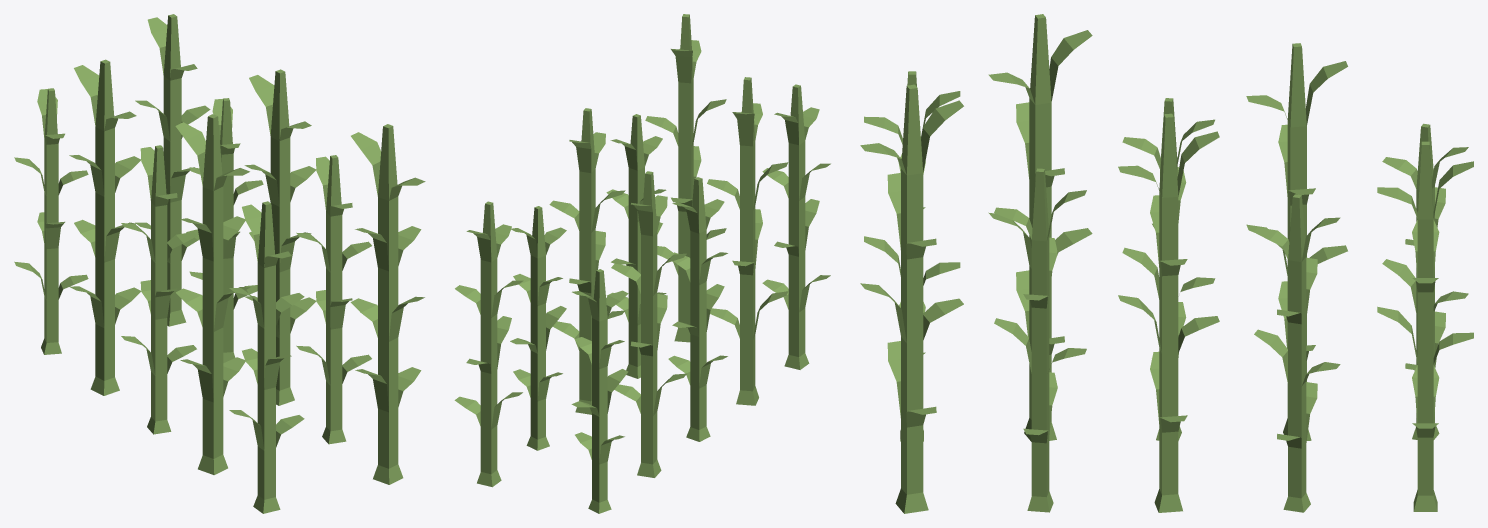
File: veg_farm_maize.glb
3 views of the same model, side by side, from view 1: azimuth 30°, elevation 25°; view 2: azimuth 150°, elevation 25°; view 3: azimuth 270°, elevation 25° (orthographic). The views are drawn at different scales.
Parts seen in each view (by area): view 1: crops_cornStageC_3, crops_cornStageC_9, crops_cornStageC_1, crops_cornStageC_4, crops_cornStageC_7, crops_cornStageC_2, crops_cornStageC_8, crops_cornStageC_5, crops_cornStageC_0, crops_cornStageC_6; view 2: crops_cornStageC_3, crops_cornStageC_1, crops_cornStageC_5, crops_cornStageC_4, crops_cornStageC_2, crops_cornStageC_7, crops_cornStageC_9, crops_cornStageC_0, crops_cornStageC_6, crops_cornStageC_8; view 3: crops_cornStageC_9, crops_cornStageC_7, crops_cornStageC_5, crops_cornStageC_8, crops_cornStageC_6, crops_cornStageC_3, crops_cornStageC_1, crops_cornStageC_0, crops_cornStageC_2, crops_cornStageC_4.
Part boxes in pixels (<box>): crops_cornStageC_3: <box>175,114,250,474</box>; crops_cornStageC_9: <box>350,124,425,484</box>; crops_cornStageC_1: <box>69,59,141,395</box>; crops_cornStageC_4: <box>229,201,304,513</box>; crops_cornStageC_7: <box>244,69,316,405</box>; crops_cornStageC_2: <box>121,145,196,434</box>; crops_cornStageC_8: <box>296,155,371,444</box>; crops_cornStageC_5: <box>135,14,210,326</box>; crops_cornStageC_0: <box>14,88,88,354</box>; crops_cornStageC_6: <box>189,98,263,362</box>; crops_cornStageC_3: <box>707,77,788,405</box>; crops_cornStageC_1: <box>611,171,686,477</box>; crops_cornStageC_5: <box>454,201,523,487</box>; crops_cornStageC_4: <box>762,84,830,369</box>; crops_cornStageC_2: <box>668,177,727,441</box>; crops_cornStageC_7: <box>549,108,625,414</box>; crops_cornStageC_9: <box>645,14,726,342</box>; crops_cornStageC_0: <box>571,269,628,513</box>; crops_cornStageC_6: <box>510,206,566,450</box>; crops_cornStageC_8: <box>606,114,666,378</box>; crops_cornStageC_9: <box>860,84,963,513</box>; crops_cornStageC_7: <box>1118,113,1219,512</box>; crops_cornStageC_5: <box>1377,141,1473,511</box>; crops_cornStageC_8: <box>994,168,1086,512</box>; crops_cornStageC_6: <box>1254,194,1340,512</box>; crops_cornStageC_3: <box>988,14,1092,441</box>; crops_cornStageC_1: <box>1246,43,1347,440</box>; crops_cornStageC_0: <box>1382,123,1468,439</box>; crops_cornStageC_2: <box>1122,98,1215,440</box>; crops_cornStageC_4: <box>864,71,960,441</box>.
Bounding box in the file's own units: 0.8449 × 1.44 × 1.91.
